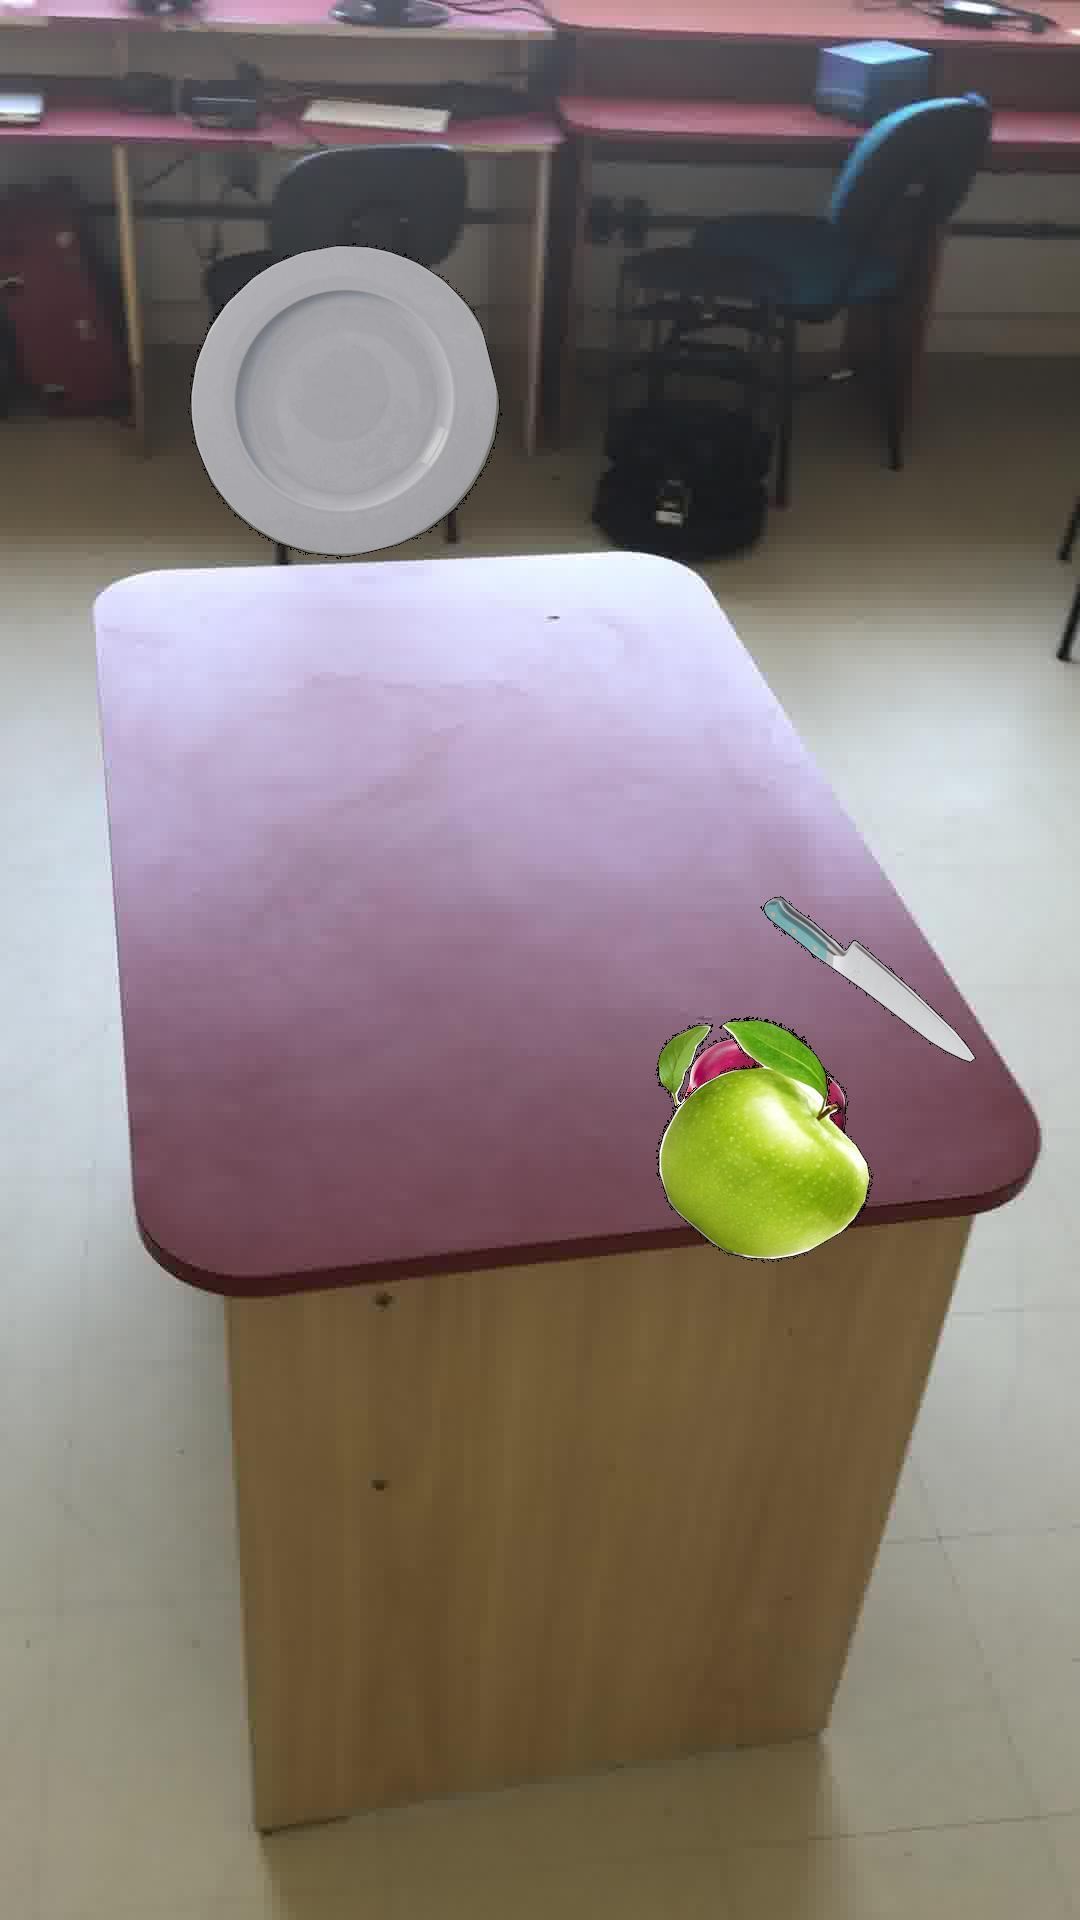apple: (654, 1023, 845, 1129)
green apple: (654, 1015, 869, 1258)
knife: (761, 895, 975, 1062)
plate: (189, 244, 498, 558)
